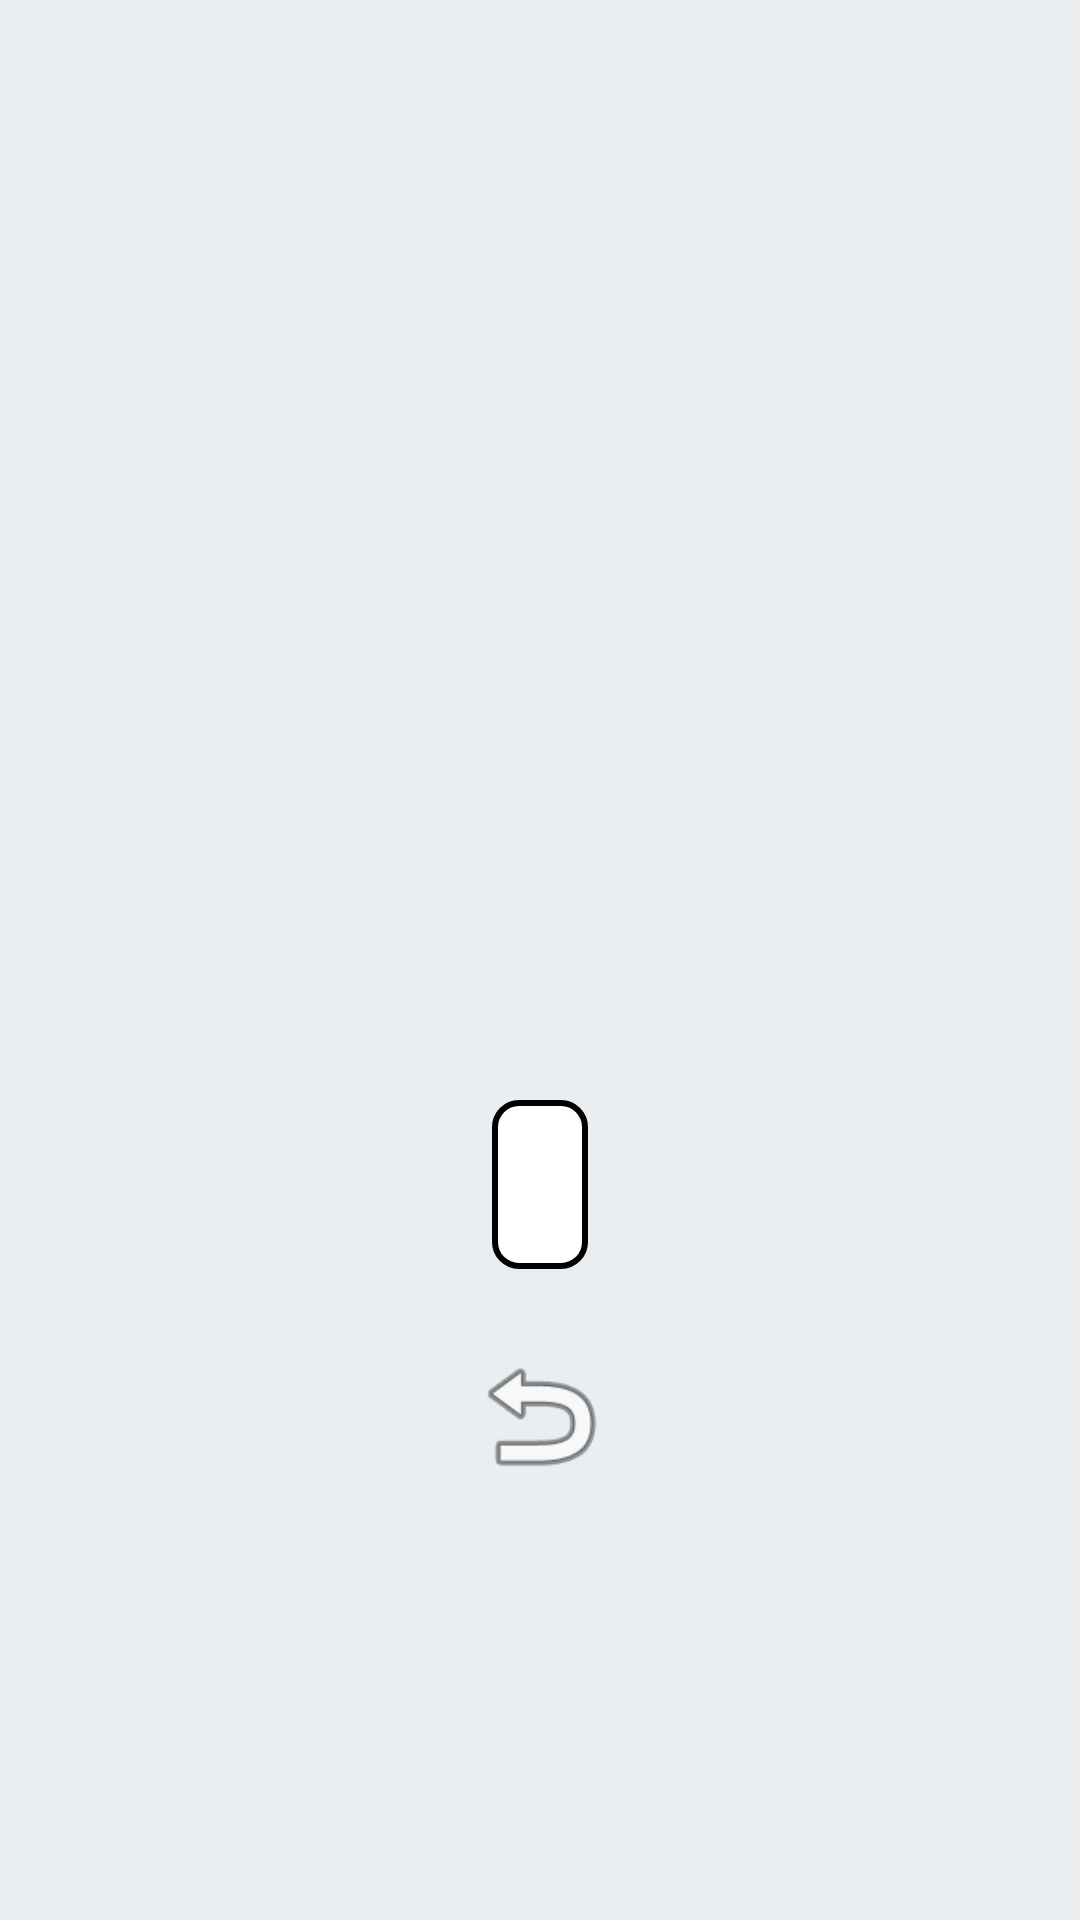

Point at icon controls on the screen. Image size 1080×1920, points as point (x, y).
Back Button: point (542, 1417)
